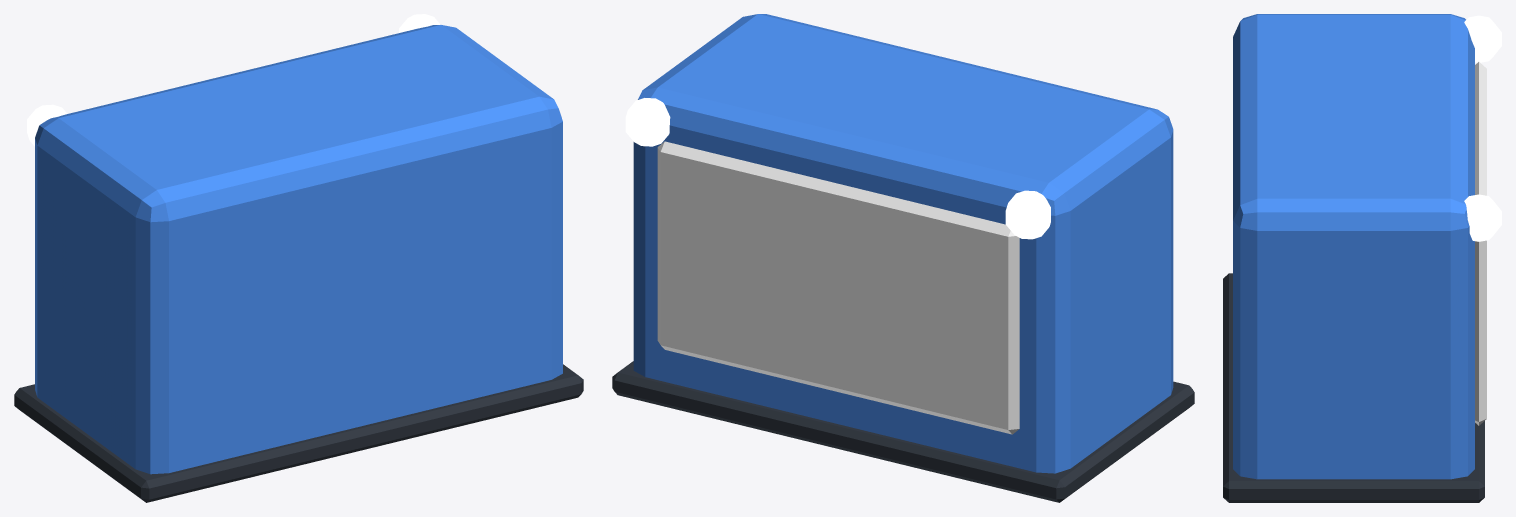
File: answer_box.glb
3 renders of one model, left to right at view 1: azimuth 30°, elevation 25°; view 2: azimuth 150°, elevation 25°; view 3: azimuth 270°, elevation 25°, orthographic. The views are drawn at different scales.
Visible parts, largest first — view 1: answer_box; view 2: answer_box; view 3: answer_box.
Part boxes in pixels (x1,y1,x2,y2): answer_box: (14,14,583,502); answer_box: (612,14,1194,502); answer_box: (1223,14,1501,502).
Size of the model in its own units: 2.5 by 1.6 by 1.38.
